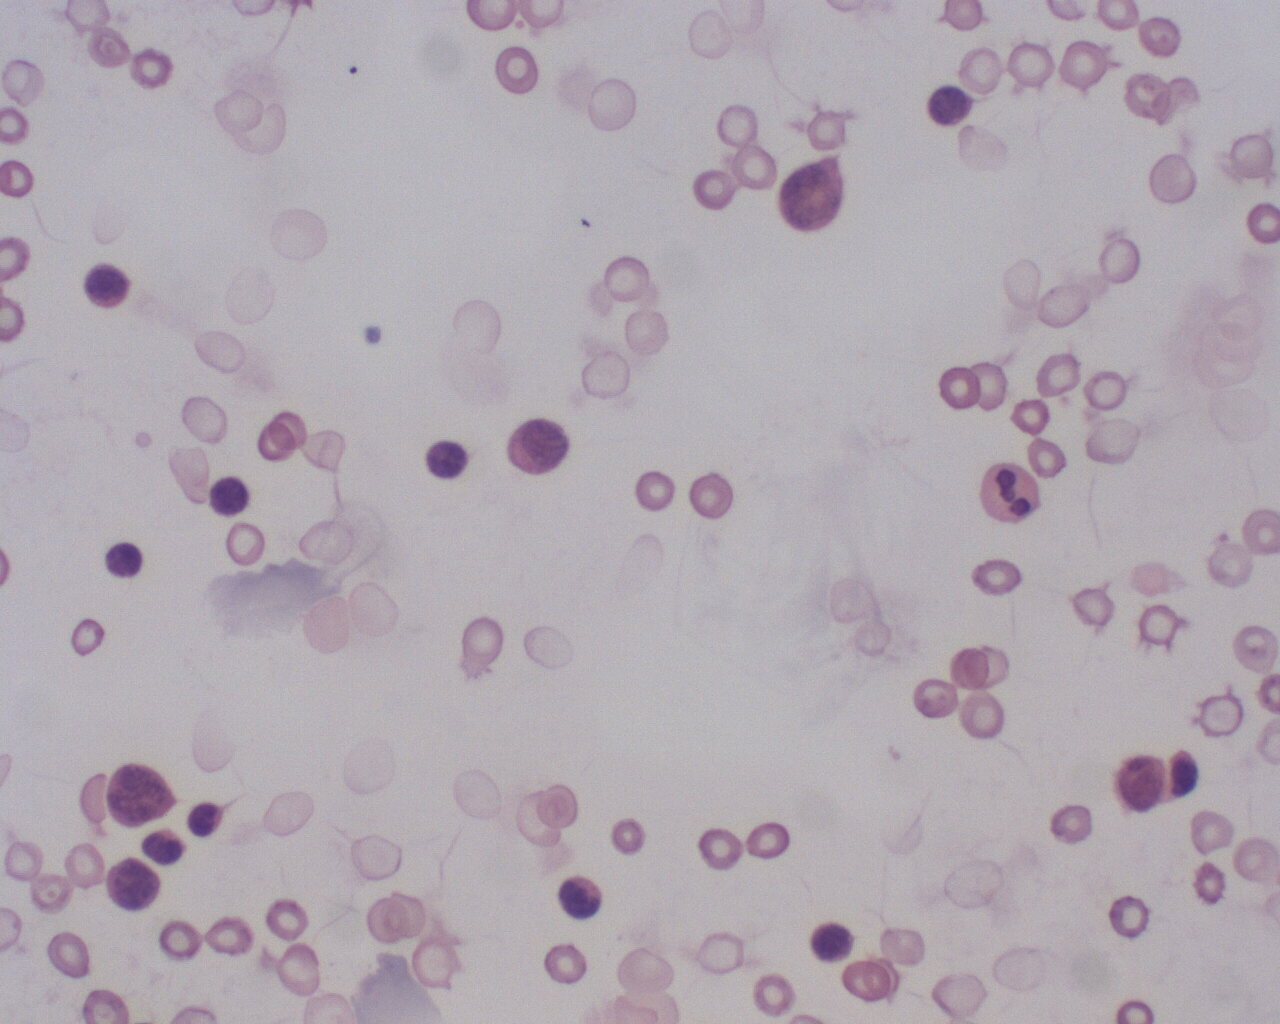ab: (775, 157, 852, 236), (103, 761, 170, 829), (506, 415, 569, 480), (103, 857, 165, 912)
